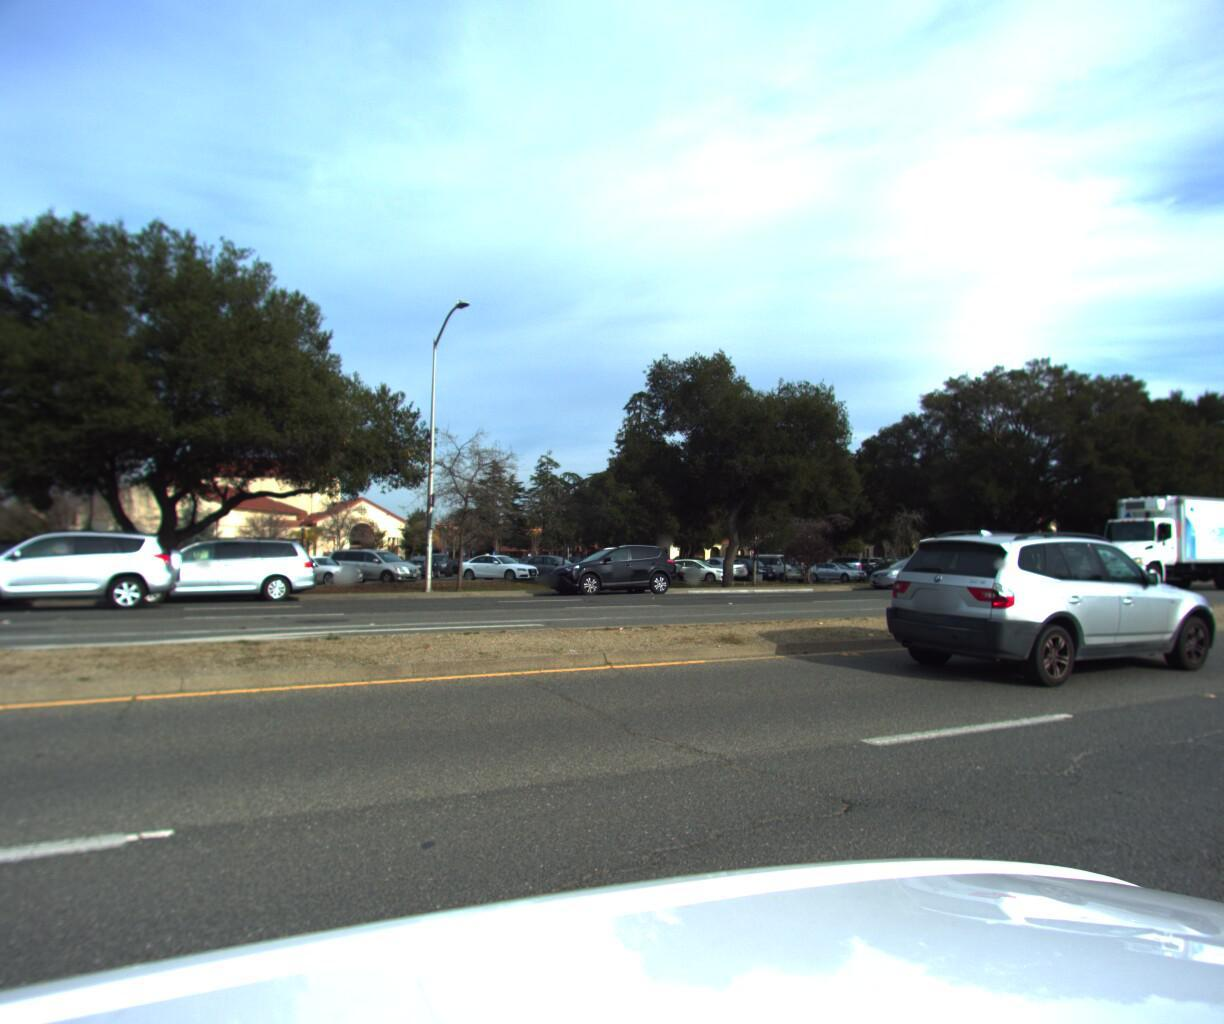car: (876, 517, 1224, 690), (103, 529, 330, 608), (0, 521, 190, 614), (537, 538, 691, 594), (857, 548, 981, 587), (0, 531, 54, 615)
truck: (1069, 484, 1224, 590)
